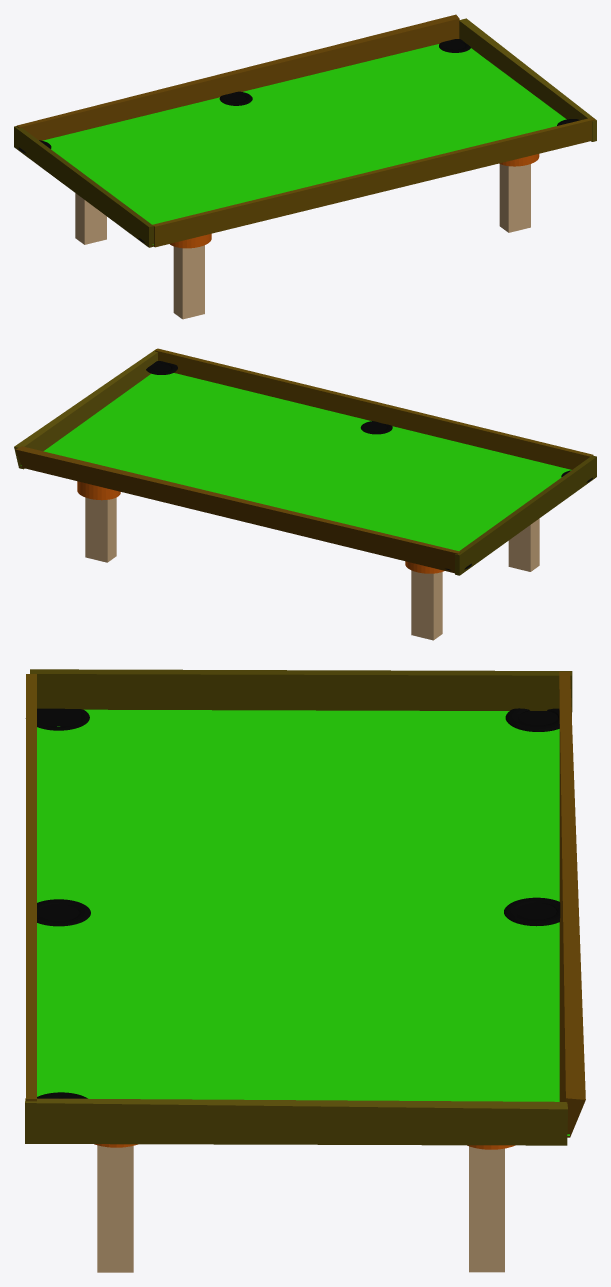
File: biliard.fbx
3 renders of one model, top to bottom at view 1: azimuth 30°, elevation 25°; view 2: azimuth 150°, elevation 25°; view 3: azimuth 270°, elevation 25°, orthographic. The views are drawn at different scales.
Parts seen in each view (by area): view 1: Plane, Cube.001, Cube.002, Cube.003, Cube.004, Cube.007, Cube, Cube.006; view 2: Plane, Cube.002, Cube.001, Cube.003, Cube.004, Cube.006, Cube.005, Cube.007, Cylinder.003; view 3: Plane, Cube.004, Cube.003, Cube.002, Cube.001, Cube, Cube.005, Torus.006, Plane.003.
Part boxes in pixels (x1=…): Plane: x1=42, y1=44, x2=566, y2=244; Cube.001: x1=152, y1=117, x2=594, y2=247; Cube.002: x1=17, y1=14, x2=459, y2=140; Cube.003: x1=14, y1=126, x2=153, y2=247; Cube.004: x1=459, y1=18, x2=596, y2=141; Cube.007: x1=173, y1=245, x2=204, y2=319; Cube: x1=499, y1=164, x2=530, y2=232; Cube.006: x1=75, y1=193, x2=106, y2=244; Plane: x1=21, y1=373, x2=571, y2=550; Cube.002: x1=15, y1=446, x2=460, y2=573; Cube.001: x1=155, y1=348, x2=593, y2=469; Cube.003: x1=455, y1=455, x2=596, y2=575; Cube.004: x1=14, y1=349, x2=157, y2=469; Cube.006: x1=411, y1=570, x2=442, y2=640; Cube.005: x1=85, y1=497, x2=116, y2=562; Cube.007: x1=508, y1=518, x2=539, y2=571; Cylinder.003: x1=77, y1=481, x2=120, y2=500; Plane: x1=37, y1=709, x2=569, y2=1135; Cube.004: x1=25, y1=1098, x2=567, y2=1145; Cube.003: x1=30, y1=669, x2=572, y2=715; Cube.002: x1=559, y1=671, x2=585, y2=1137; Cube.001: x1=26, y1=674, x2=36, y2=1101; Cube: x1=97, y1=1145, x2=133, y2=1272; Cube.005: x1=469, y1=1146, x2=504, y2=1272; Torus.006: x1=504, y1=897, x2=560, y2=926; Plane.003: x1=37, y1=708, x2=81, y2=726.
Bounding box in the file's own units: 205 × 48.81 × 111.
